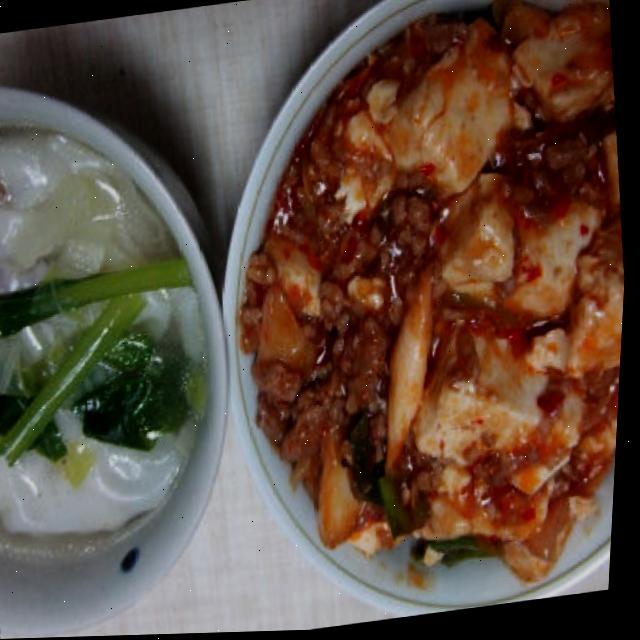豆腐料理: (196, 0, 640, 635)
